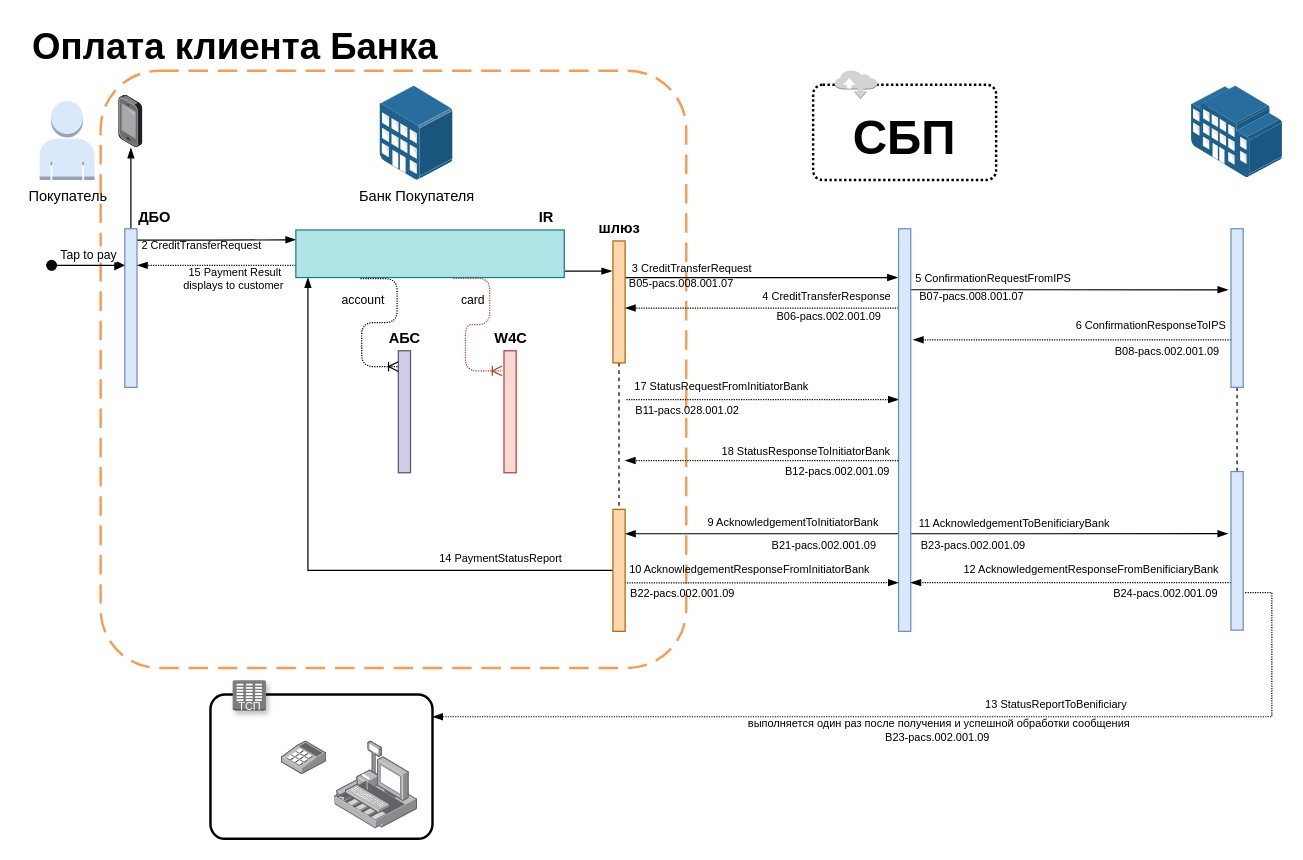
Some shapes in this 1303 by 860 pixel diagram are drawn without their labels. Here are the shapes that lost their labels. From the top down, the centre of each, then its label:
At [1236,131]: "Банк ТСП".
At [429,253]: "IBM WebSphere".
